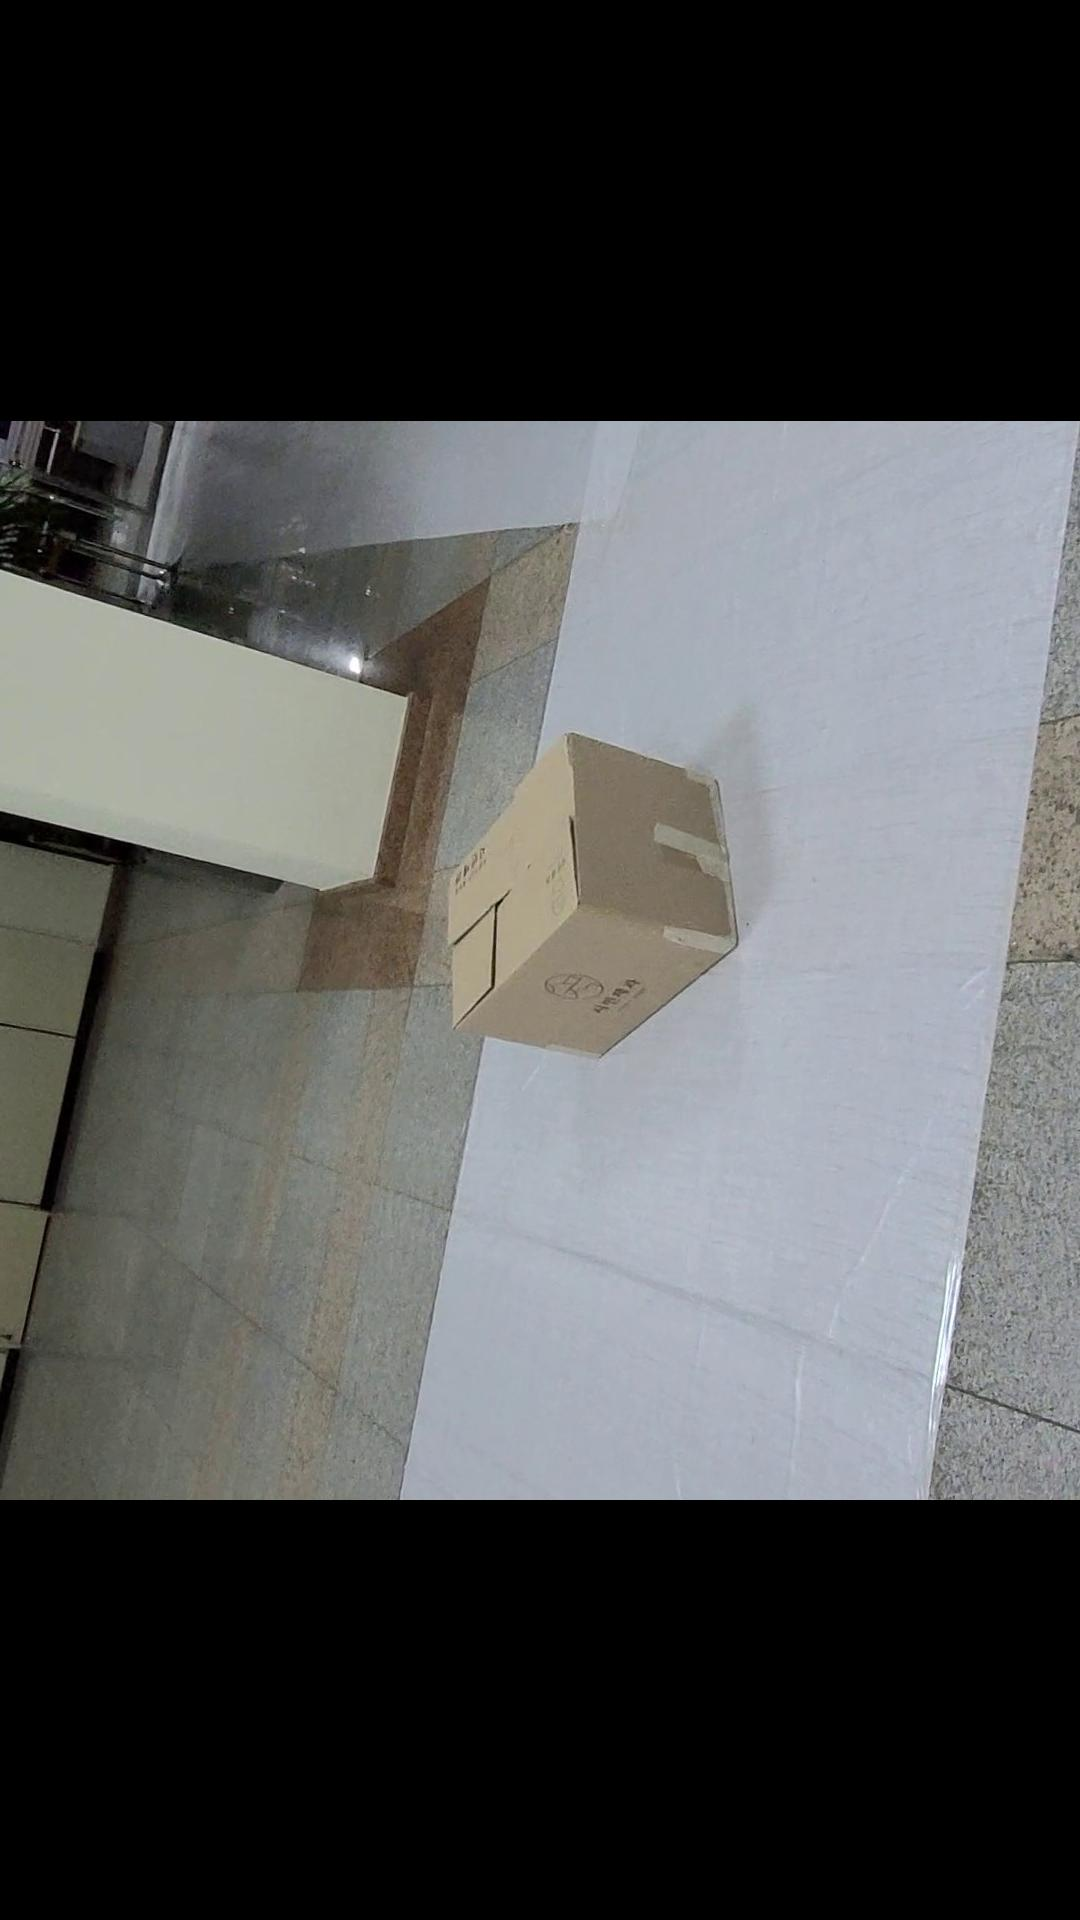Box: (385, 676, 827, 1067)
